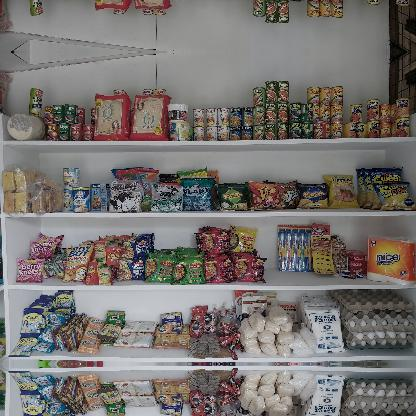Lady-s-Choice: (6, 114, 46, 140)
